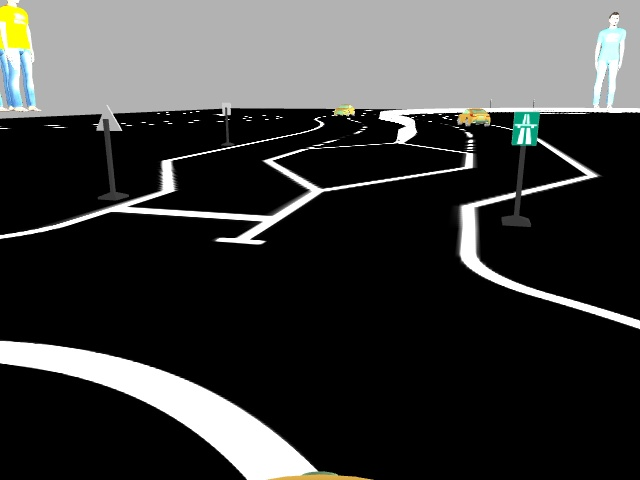HighwayEntrance: (509, 109, 540, 147)
